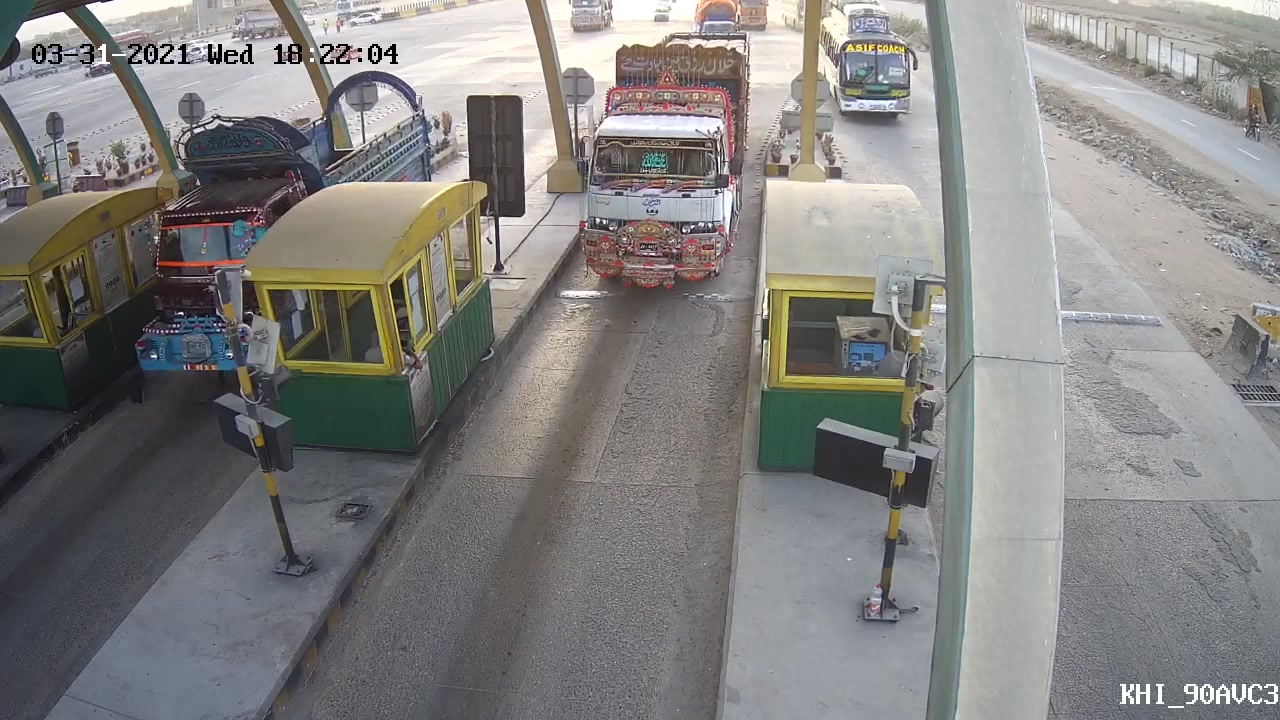F6: (566, 26, 765, 287)
